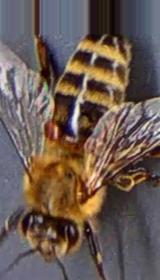varroa_mite: (34, 108, 68, 146)
